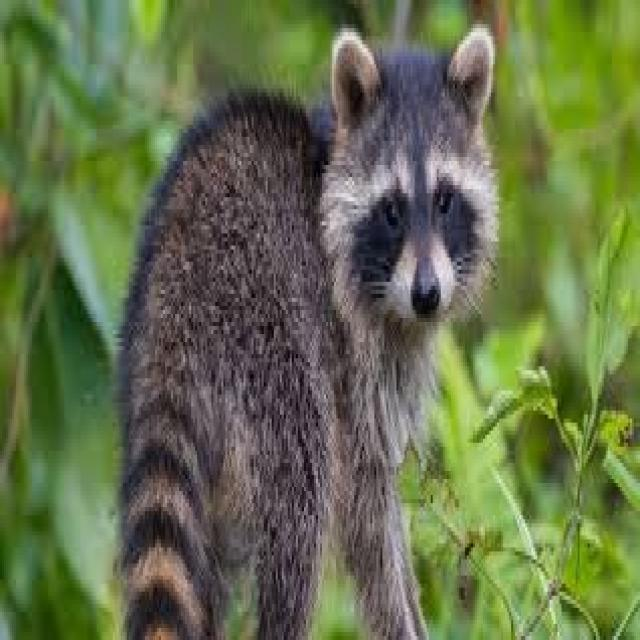Raccoon: (115, 24, 499, 640)
